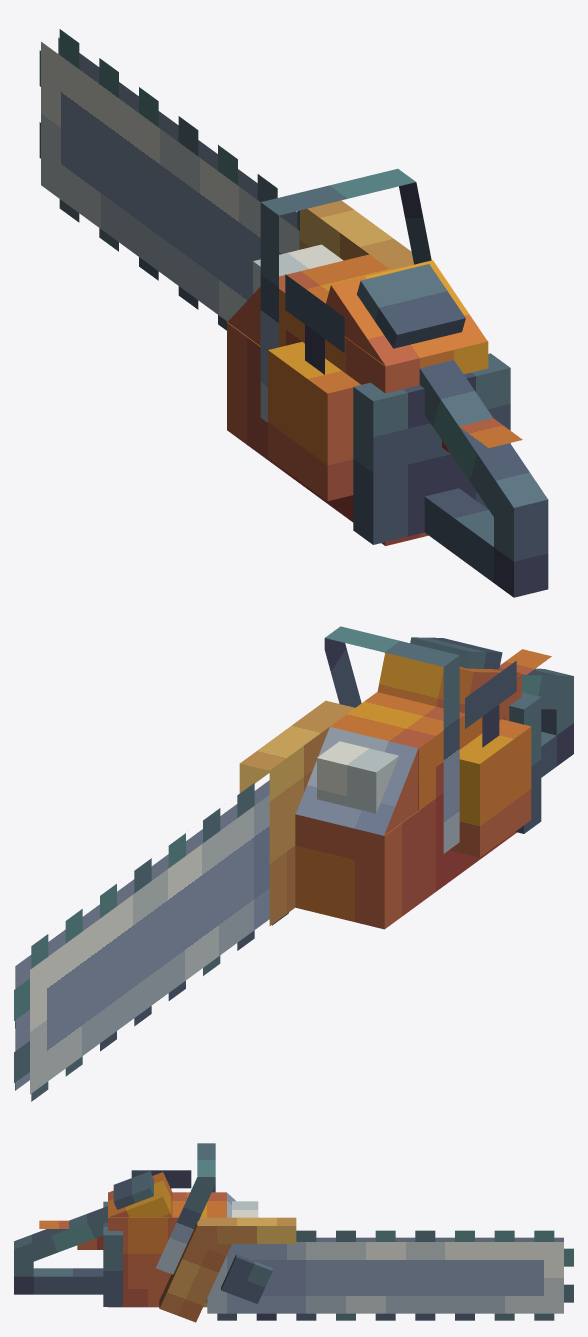
File: 230501_chainsaw.gltf
3 renders of one model, top to bottom at view 1: azimuth 30°, elevation 25°; view 2: azimuth 150°, elevation 25°; view 3: azimuth 270°, elevation 25°, orthographic. The views are drawn at different scales.
Parts seen in each view (by area): view 1: cube (×20); view 2: cube (×21); view 3: cube (×19).
Part boxes in pixels (left/top/right/bottom): cube (×20): left=39, top=29, right=548, bottom=597; cube (×21): left=14, top=626, right=573, bottom=1101; cube (×19): left=14, top=1143, right=573, bottom=1322.
Size of the model in its own units: 0.3188 by 0.5001 by 1.77.
Materials: 1 (1 with a texture image).
